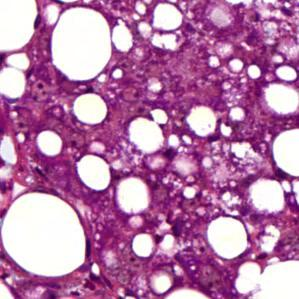steatosis: (0, 191, 90, 278), (53, 6, 117, 79), (203, 218, 254, 254), (126, 117, 167, 152), (71, 91, 108, 125), (30, 126, 64, 158)
